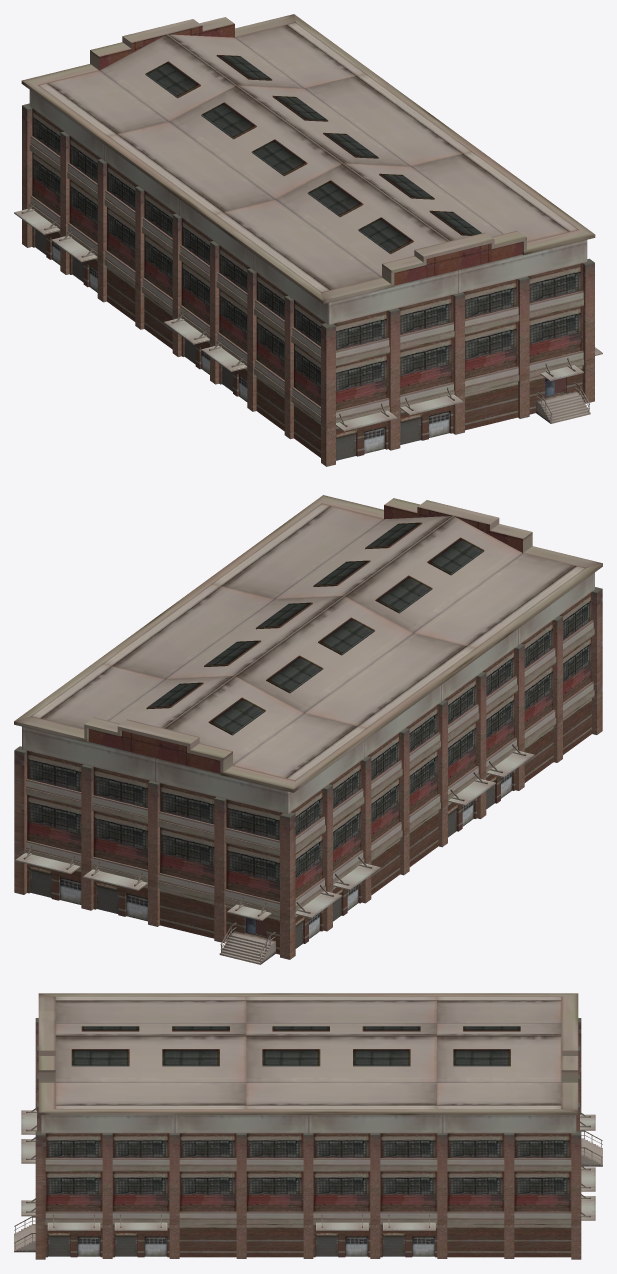
The model's file is ind-building-10.walls-v1.lod1.glb.
3 views of the same model, one above another, from view 1: azimuth 30°, elevation 25°; view 2: azimuth 150°, elevation 25°; view 3: azimuth 270°, elevation 25° (orthographic). The views are drawn at different scales.
Parts seen in each view (by area): view 1: Industrial_Building_10_Material #2_0; view 2: Industrial_Building_10_Material #2_0; view 3: Industrial_Building_10_Material #2_0.
Part boxes in pixels (x1,y1,x2,y2): Industrial_Building_10_Material #2_0: (14,14,602,466); Industrial_Building_10_Material #2_0: (14,495,602,964); Industrial_Building_10_Material #2_0: (14,993,602,1259).
Bounding box in the file's own units: 43.5 × 25.82 × 83.27.
Materials: 1 (1 with a texture image).
